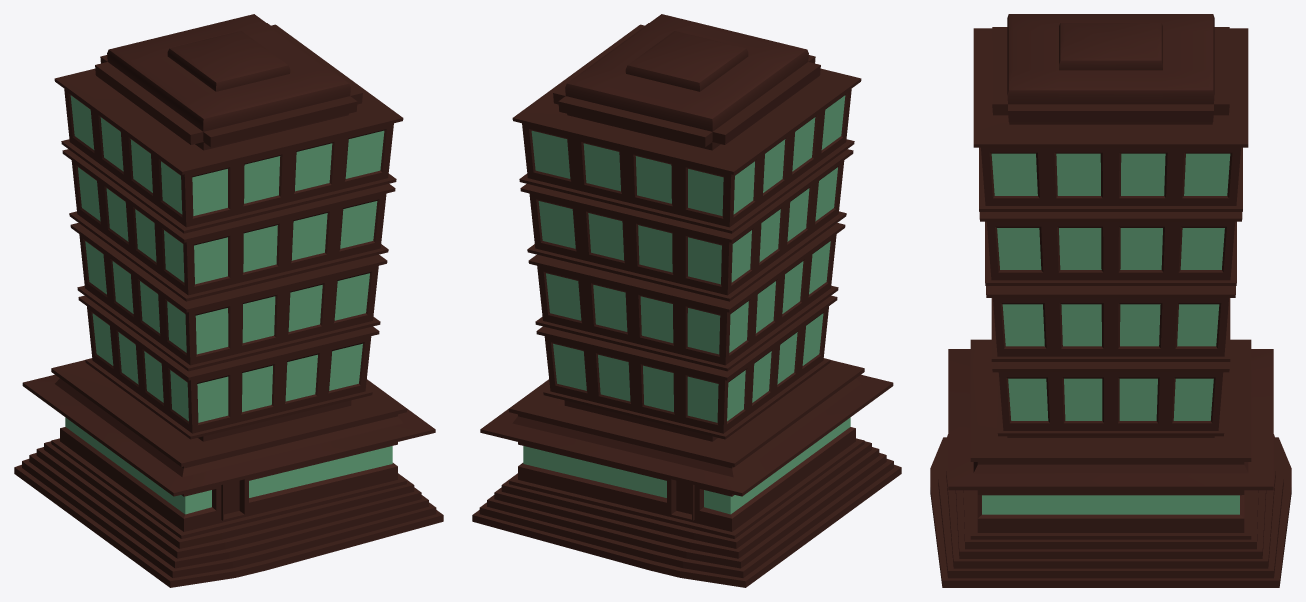
The model's file is Basic Building medium.FBX.
3 views of the same model, side by side, from view 1: azimuth 30°, elevation 25°; view 2: azimuth 150°, elevation 25°; view 3: azimuth 270°, elevation 25° (orthographic). The views are drawn at different scales.
Visible parts, largest first — view 1: Basic Building #2; view 2: Basic Building #2; view 3: Basic Building #2.
Part boxes in pixels (box(x1,y1,x2,y2)): Basic Building #2: box(14, 14, 443, 587); Basic Building #2: box(472, 14, 901, 587); Basic Building #2: box(930, 14, 1291, 587).
Size of the model in its own units: 19.52 by 30.22 by 20.81.
